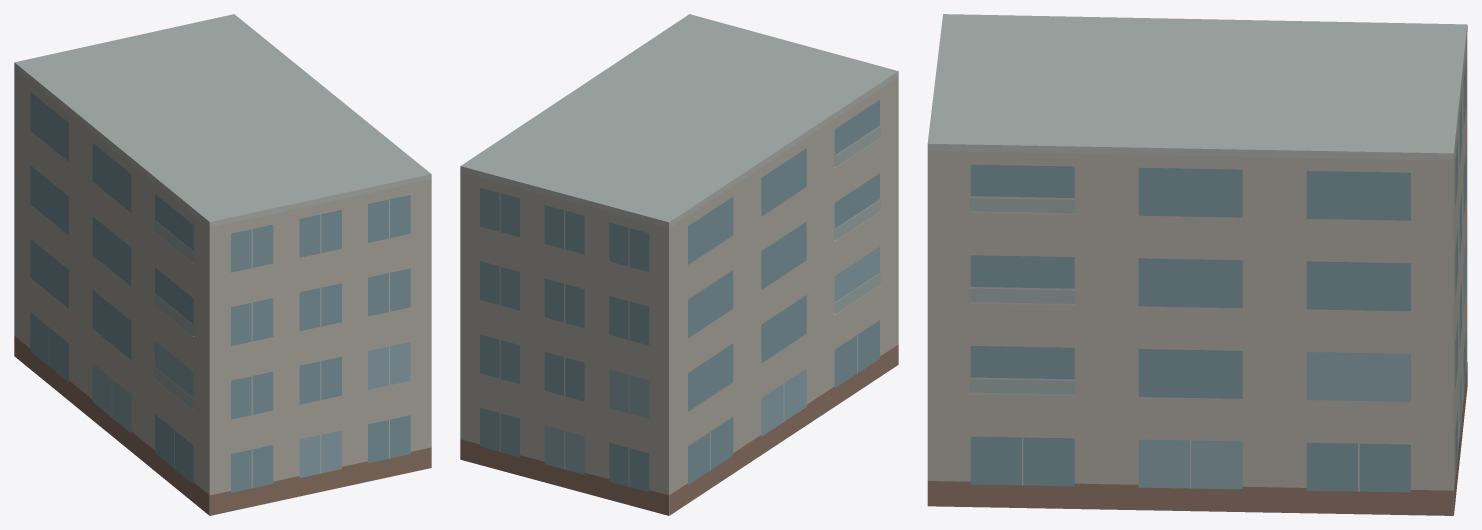
The model's file is survey-upis-32885319.glb.
The picture shows the model from 3 angles, left to right: view 1: azimuth 30°, elevation 25°; view 2: azimuth 150°, elevation 25°; view 3: azimuth 270°, elevation 25°; orthographic projection. The views are drawn at different scales.
Parts seen in each view (by area): view 1: survey-upis-32885319.tmp; view 2: survey-upis-32885319.tmp; view 3: survey-upis-32885319.tmp.
Boxes of the visible parts, x1,y1,x2,y2 form: survey-upis-32885319.tmp: [14, 14, 431, 515]; survey-upis-32885319.tmp: [460, 14, 898, 515]; survey-upis-32885319.tmp: [927, 14, 1467, 515].
Bounding box in the file's own units: 10.48 × 12.7 × 17.15.
